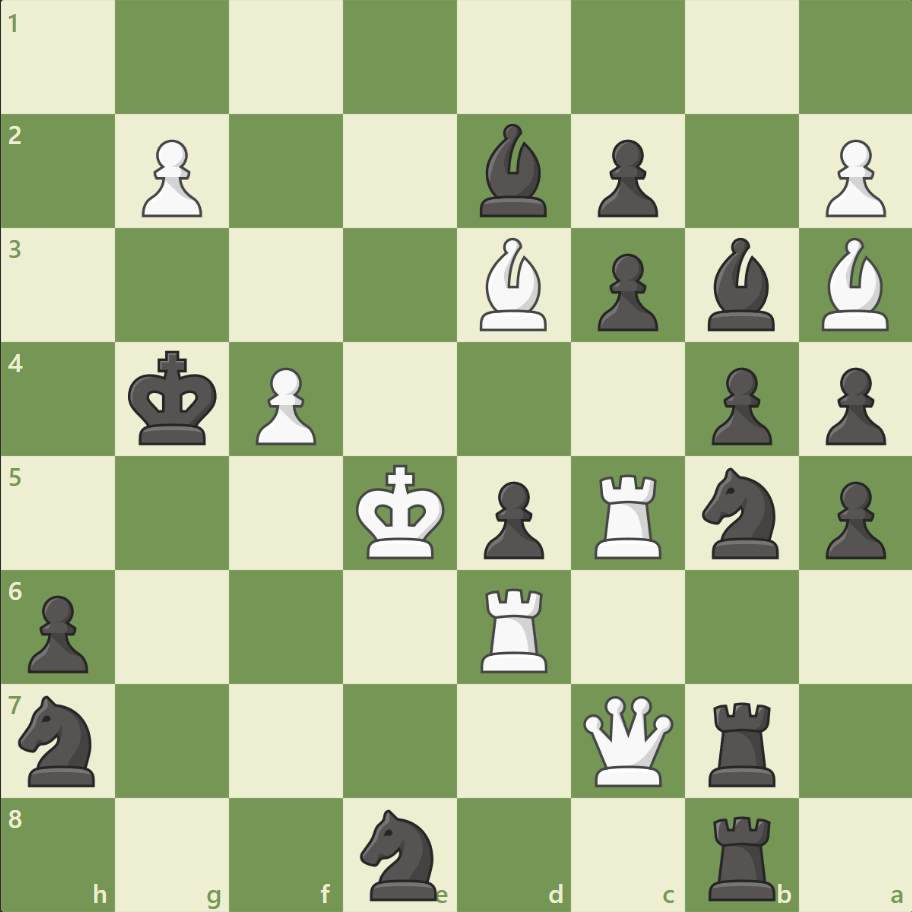B: (812, 233, 896, 336), (471, 233, 555, 336)
K: (351, 458, 451, 566)
P: (247, 359, 322, 450), (133, 132, 208, 223), (815, 132, 889, 223)
Q: (578, 690, 677, 789)
R: (473, 579, 556, 676), (587, 466, 670, 563)
b: (698, 233, 782, 336), (471, 120, 555, 222)
k: (124, 344, 224, 452)
n: (351, 802, 449, 904), (11, 688, 108, 791), (692, 461, 789, 564)
p: (20, 586, 95, 677), (474, 473, 549, 564), (701, 359, 776, 450), (815, 473, 889, 564), (815, 359, 889, 450), (588, 246, 662, 337), (588, 132, 662, 223)
r: (700, 806, 783, 904), (700, 693, 783, 790)
